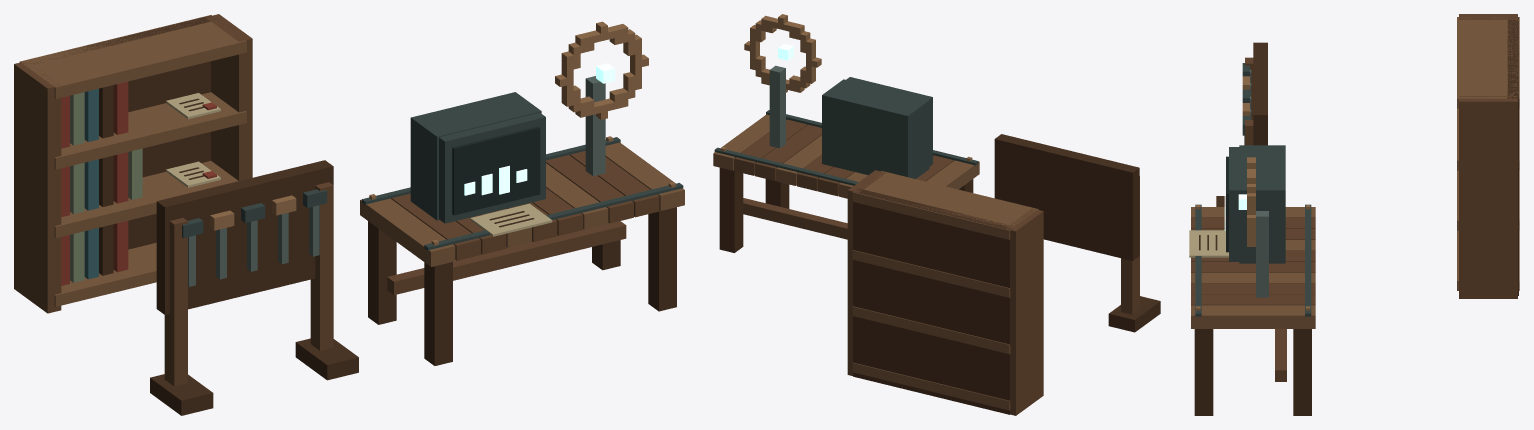
File: B40_recon.glb
The picture shows the model from 3 angles, left to right: view 1: azimuth 30°, elevation 25°; view 2: azimuth 150°, elevation 25°; view 3: azimuth 270°, elevation 25°; orthographic projection. The views are drawn at different scales.
Parts seen in each view (by area): view 1: B40_recon__charts_ShelfBoard_woodlight, B40_recon__charts_ShelfUpright_wood, B40_recon__repair_ToolBoard_wooddark, B40_recon__main_station_TableLegs_wooddark, B40_recon__main_station_TableTop_wood, B40_recon__main_station_TableTop_woodlight, B40_recon__repair_ToolStand_wood, B40_recon__charts_ShelfBack_wooddark, B40_recon__main_station_Screen_black, B40_recon__main_station_MonitorBody_iron, B40_recon__main_station_TableRail_wood, B40_recon__main_station_Ring_copper (+14 smaller); view 2: B40_recon__charts_ShelfBack_wooddark, B40_recon__repair_ToolBoard_wooddark, B40_recon__charts_ShelfBoard_woodlight, B40_recon__main_station_MonitorBody_iron, B40_recon__charts_ShelfUpright_wood, B40_recon__main_station_TableTop_wood, B40_recon__main_station_TableTop_woodlight, B40_recon__main_station_TableLegs_wooddark, B40_recon__main_station_Ring_copper, B40_recon__main_station_TableRail_wood, B40_recon__main_station_ProbeMast_edge, B40_recon__main_station_TableBands_iron (+3 smaller); view 3: B40_recon__charts_ShelfUpright_wood, B40_recon__charts_ShelfBoard_woodlight, B40_recon__main_station_TableTop_woodlight, B40_recon__main_station_TableTop_wood, B40_recon__main_station_MonitorBody_iron, B40_recon__main_station_TableLegs_wooddark, B40_recon__repair_ToolBoard_wooddark, B40_recon__main_station_TableBands_iron, B40_recon__main_station_ScreenFrame_iron, B40_recon__main_station_ProbeMast_edge, B40_recon__charts_ShelfBack_wooddark, B40_recon__main_station_Paper_paper (+3 smaller).
Boxes of the visible parts, x1,y1,x2,y2 form: B40_recon__charts_ShelfBoard_woodlight: [19, 15, 246, 306]; B40_recon__charts_ShelfUpright_wood: [14, 14, 252, 313]; B40_recon__repair_ToolBoard_wooddark: [156, 160, 333, 314]; B40_recon__main_station_TableLegs_wooddark: [368, 207, 676, 365]; B40_recon__main_station_TableTop_wood: [391, 151, 659, 260]; B40_recon__main_station_TableTop_woodlight: [360, 142, 684, 266]; B40_recon__repair_ToolStand_wood: [164, 182, 333, 386]; B40_recon__charts_ShelfBack_wooddark: [24, 15, 216, 249]; B40_recon__main_station_Screen_black: [452, 126, 540, 215]; B40_recon__main_station_MonitorBody_iron: [410, 92, 541, 220]; B40_recon__main_station_TableRail_wood: [387, 221, 626, 295]; B40_recon__main_station_Ring_copper: [555, 21, 648, 119]; B40_recon__charts_ShelfBack_wooddark: [853, 188, 1011, 414]; B40_recon__repair_ToolBoard_wooddark: [994, 134, 1139, 260]; B40_recon__charts_ShelfBoard_woodlight: [852, 171, 1038, 410]; B40_recon__main_station_MonitorBody_iron: [822, 79, 929, 178]; B40_recon__charts_ShelfUpright_wood: [847, 170, 1043, 415]; B40_recon__main_station_TableTop_wood: [734, 119, 953, 196]; B40_recon__main_station_TableTop_woodlight: [713, 114, 979, 198]; B40_recon__main_station_TableLegs_wooddark: [719, 167, 973, 252]; B40_recon__main_station_Ring_copper: [744, 14, 821, 92]; B40_recon__main_station_TableRail_wood: [743, 198, 847, 239]; B40_recon__main_station_ProbeMast_edge: [769, 65, 785, 148]; B40_recon__main_station_TableBands_iron: [714, 110, 978, 185]; B40_recon__charts_ShelfUpright_wood: [1459, 14, 1517, 298]; B40_recon__charts_ShelfBoard_woodlight: [1457, 17, 1519, 290]; B40_recon__main_station_TableTop_woodlight: [1191, 207, 1315, 328]; B40_recon__main_station_TableTop_wood: [1191, 218, 1315, 305]; B40_recon__main_station_MonitorBody_iron: [1239, 145, 1285, 263]; B40_recon__main_station_TableLegs_wooddark: [1194, 329, 1311, 415]; B40_recon__repair_ToolBoard_wooddark: [1253, 42, 1267, 145]; B40_recon__main_station_TableBands_iron: [1195, 204, 1311, 316]; B40_recon__main_station_ScreenFrame_iron: [1229, 147, 1239, 261]; B40_recon__main_station_ProbeMast_edge: [1256, 211, 1268, 297]; B40_recon__charts_ShelfBack_wooddark: [1507, 17, 1518, 295]; B40_recon__main_station_Paper_paper: [1189, 230, 1228, 257].
Size of the model in its own units: 5.37 by 2.83 by 3.59.
